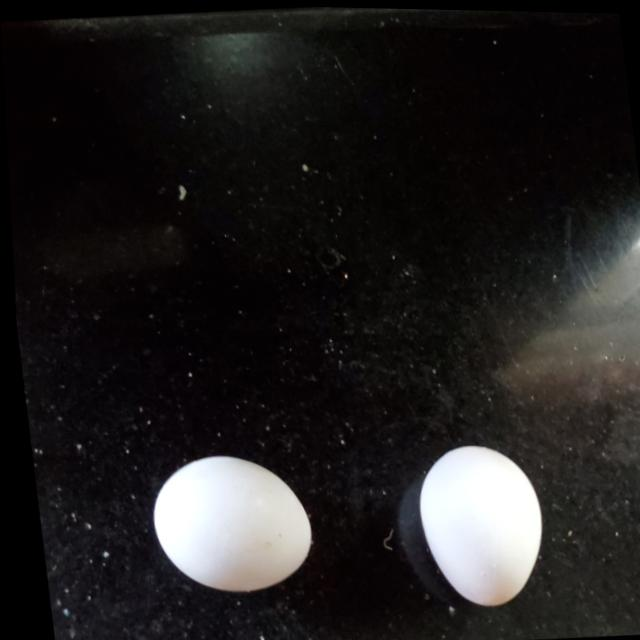egg: (144, 447, 319, 600), (402, 436, 549, 612)
